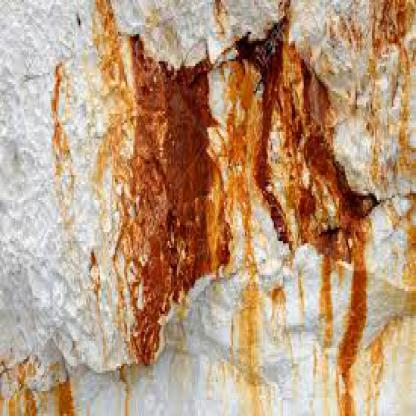Sedimentary_Chalk: (219, 268, 404, 405), (55, 54, 139, 328)
